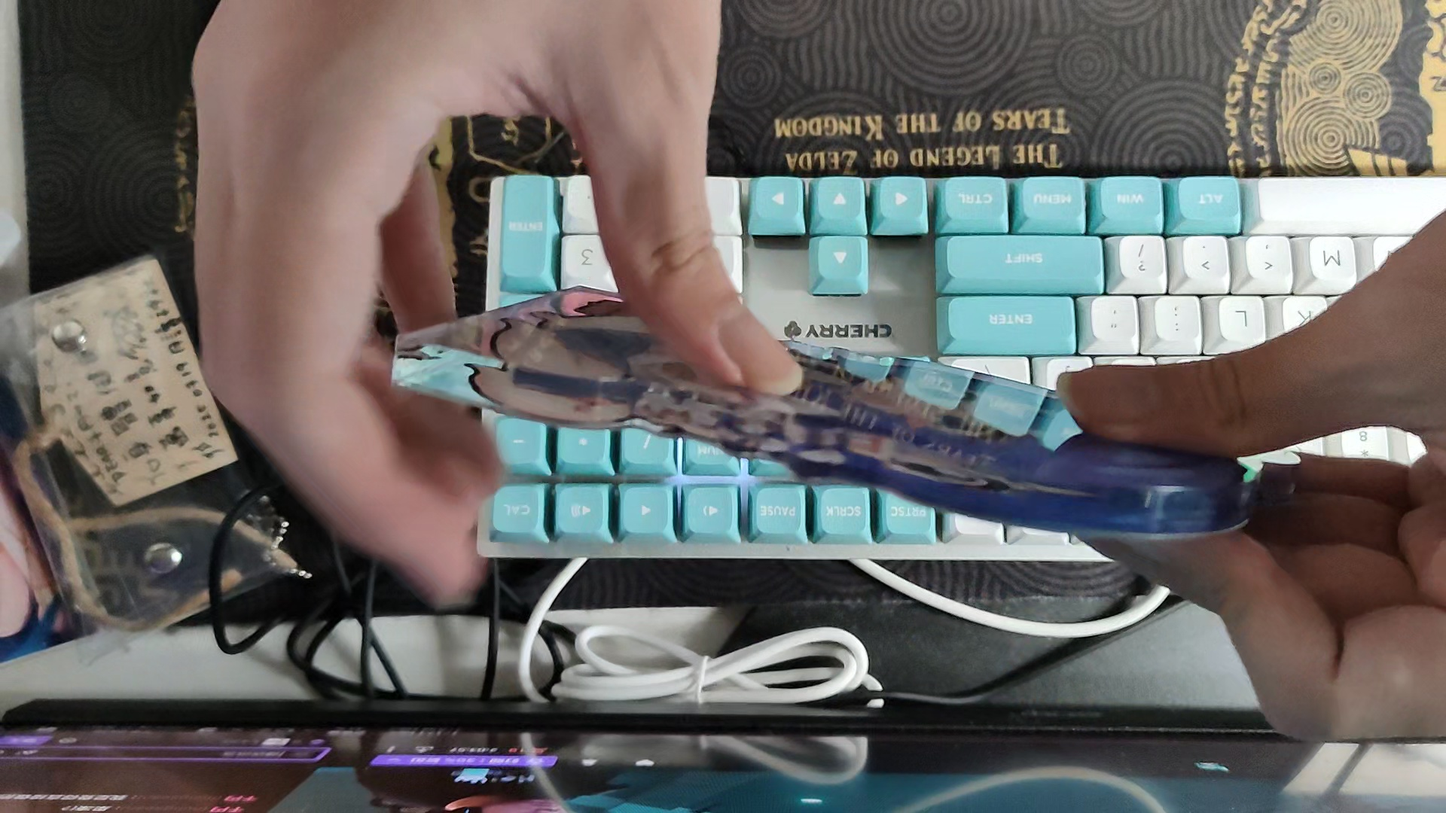Yanami-anna: (393, 285, 1304, 538)
